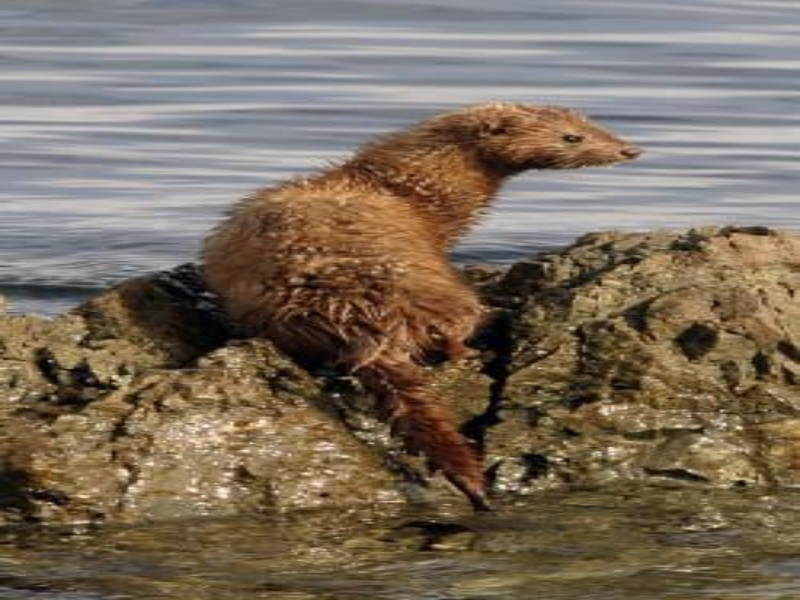minkish: (198, 99, 647, 503)
